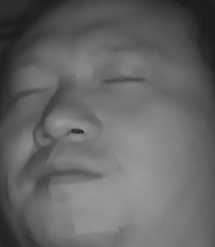blink: (103, 72, 146, 90), (11, 85, 43, 105)
mouth: (30, 157, 103, 189)
